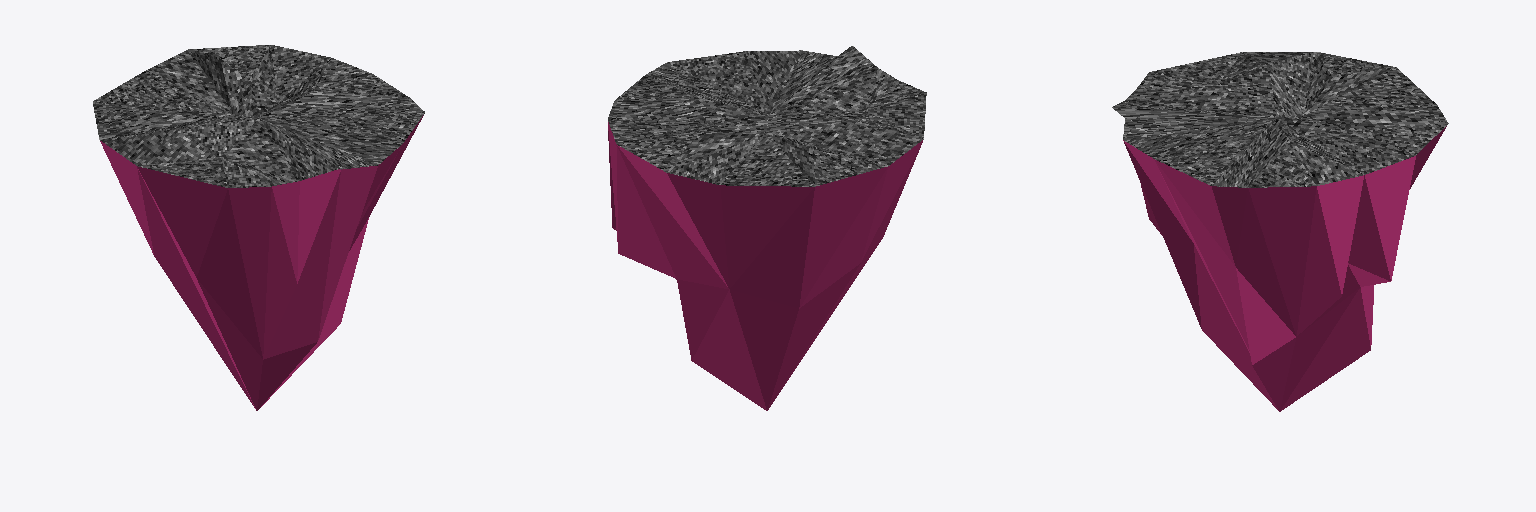
The picture shows the model from 3 angles: view 1: azimuth 30°, elevation 25°; view 2: azimuth 150°, elevation 25°; view 3: azimuth 270°, elevation 25°; orthographic projection.
Size of the model in its own units: 8.61 by 9.24 by 9.07.
Materials: 2 (1 with a texture image).